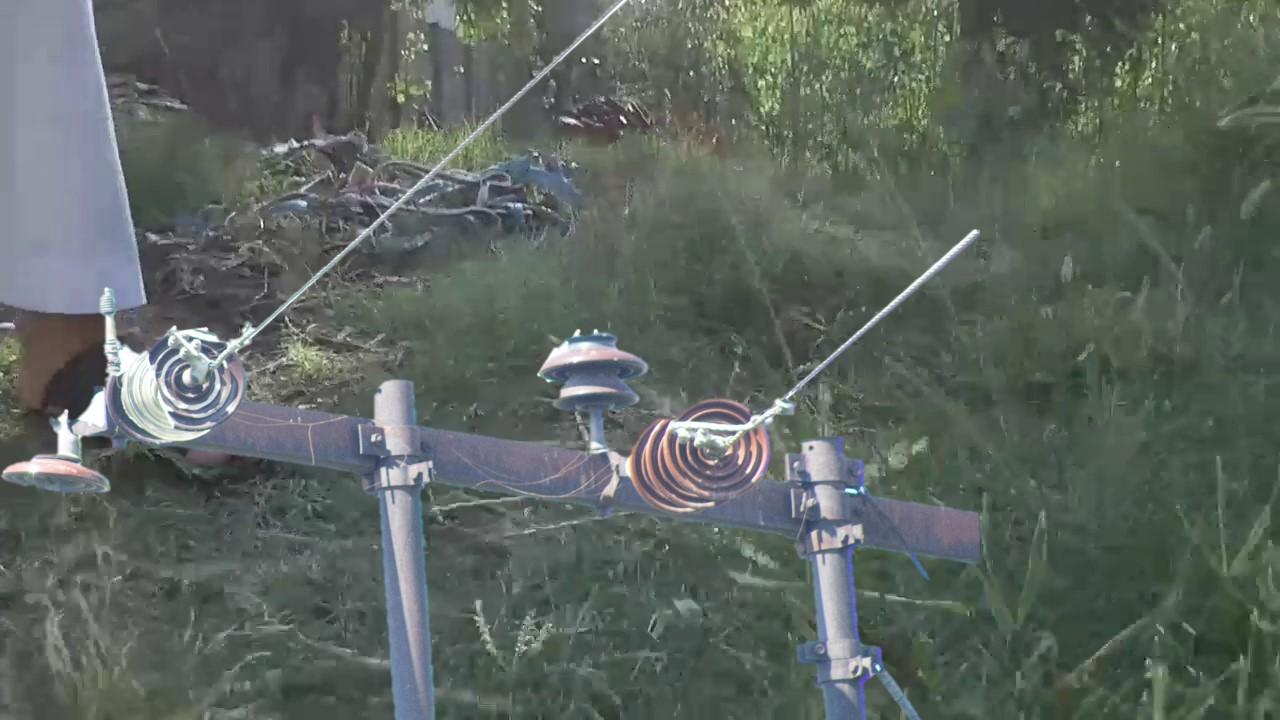defect_disc: (145, 326, 246, 438)
insulator_disc: (660, 397, 773, 503), (3, 449, 112, 507)
